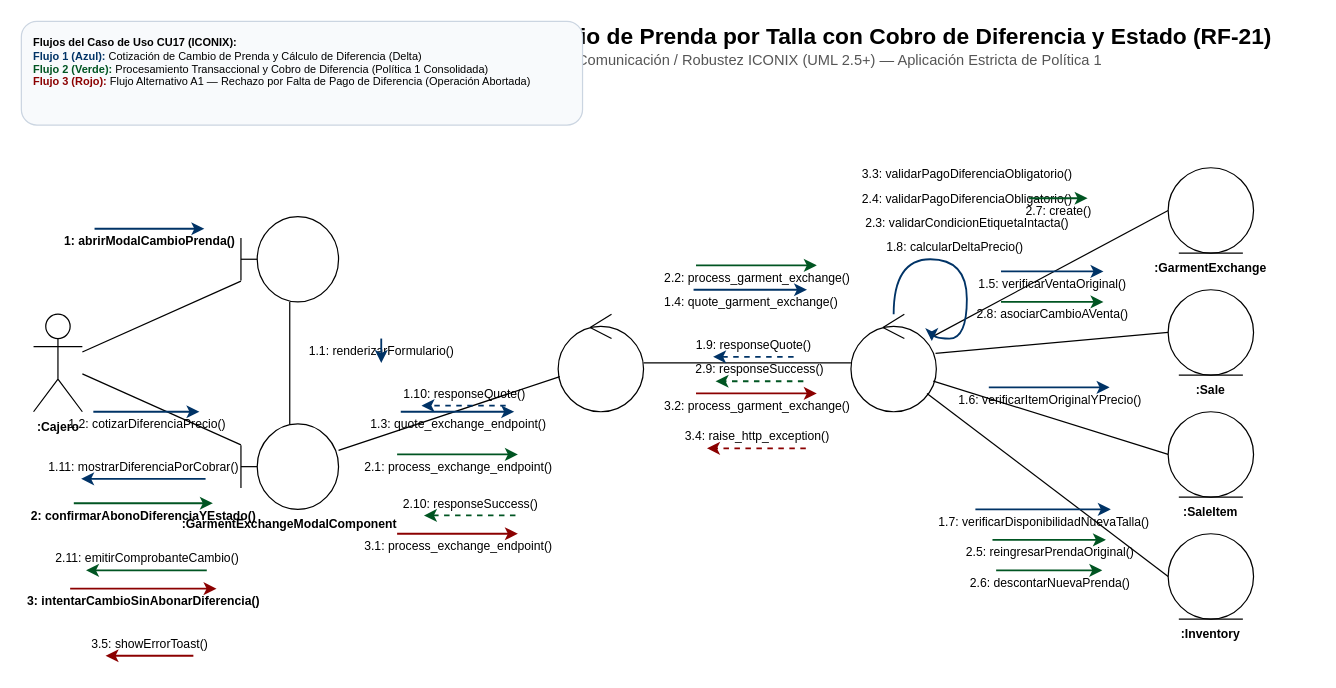
Image size: 1336x688. Some labels were removed from this diagram. Each missing label, with the box of its shape:
:CajaPageComponent: (240, 215, 339, 302)
:GarmentExchangeRoutes: (557, 313, 644, 412)
:GarmentExchangeService: (850, 313, 936, 412)
